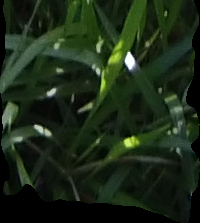grass: (1, 1, 199, 221)
